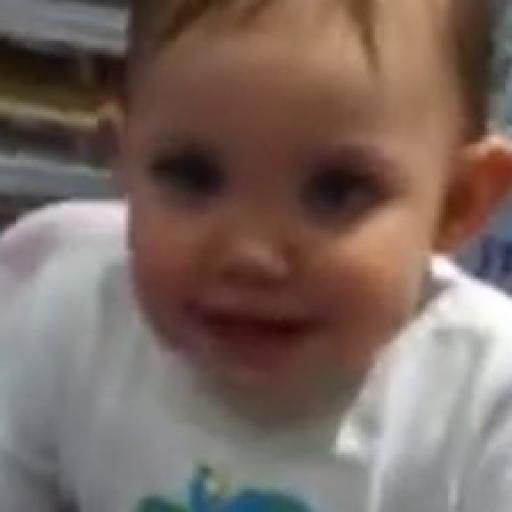Autism: (71, 0, 511, 434)
